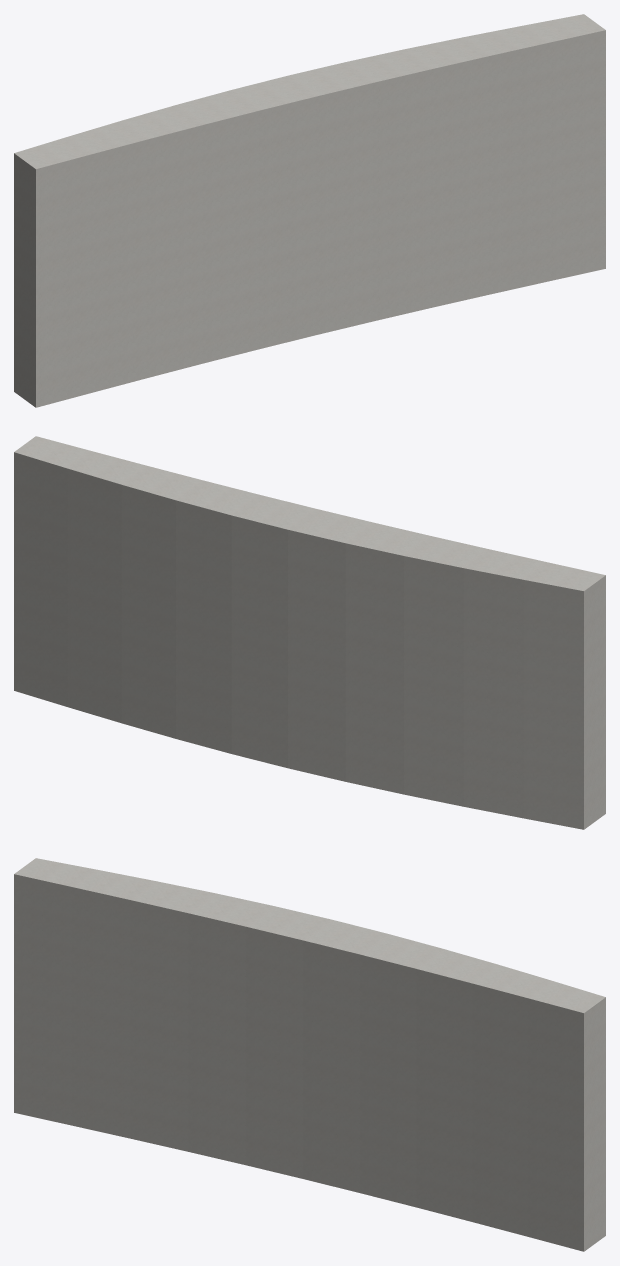
The model's file is dam_concrete.glb.
3 renders of one model, top to bottom at view 1: azimuth 30°, elevation 25°; view 2: azimuth 150°, elevation 25°; view 3: azimuth 330°, elevation 25°, orthographic.
Parts seen in each view (by area): view 1: DamConcrete; view 2: DamConcrete; view 3: DamConcrete.
Boxes of the visible parts, <box> form: DamConcrete: <box>14,14,605,407</box>; DamConcrete: <box>14,436,605,829</box>; DamConcrete: <box>14,858,605,1251</box>.
Size of the model in its own units: 50 by 20 by 5.
Materials: 1 (1 with a texture image).
